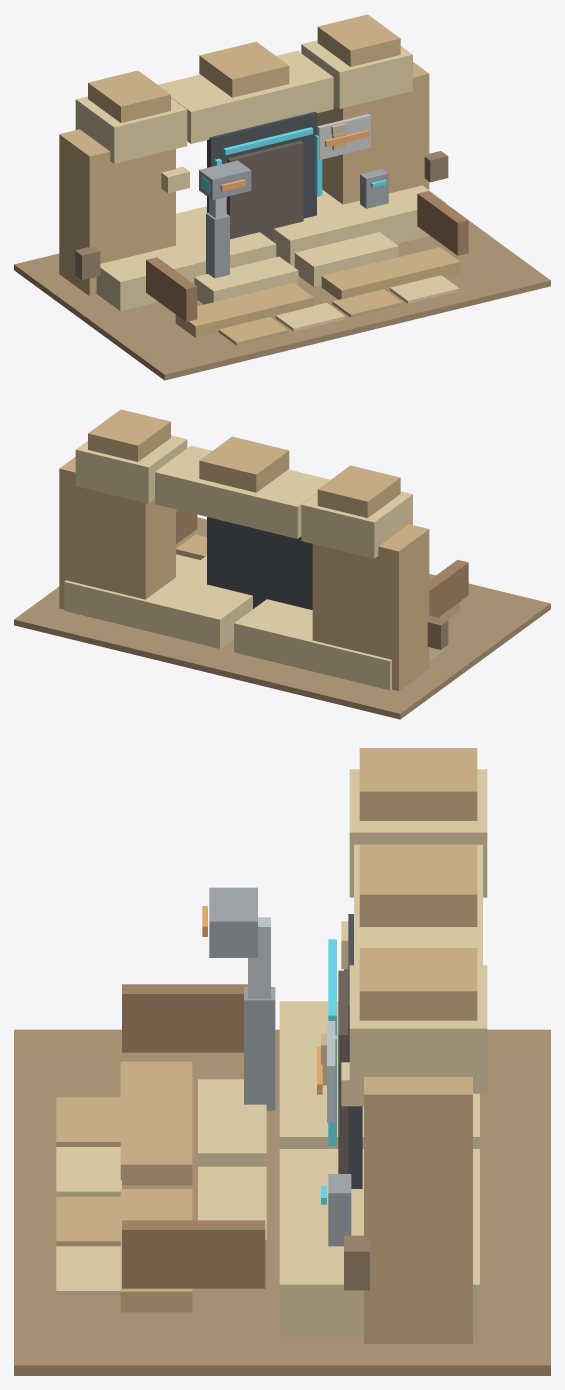
Rendered from blockbench_cantina_entrance_v1.glb.
The picture shows the model from 3 angles, top to bottom: view 1: azimuth 30°, elevation 25°; view 2: azimuth 150°, elevation 25°; view 3: azimuth 270°, elevation 25°; orthographic projection. The views are drawn at different scales.
Visible parts, largest first — view 1: dust_base, left_wall_core, right_wall_core, lintel_center, platform_left, platform_right, inner_door, lintel_left_cap, lintel_right_cap, step_low_right, top_block_mid, step_low_left (+19 smaller); view 2: dust_base, left_wall_core, right_wall_core, platform_right, lintel_center, recess_shadow, platform_left, lintel_left_cap, lintel_right_cap, top_block_mid, top_block_left, top_block_right (+4 smaller); view 3: dust_base, right_wall_core, platform_right, right_side_rail, top_block_mid, lintel_right_cap, step_low_left, top_block_left, top_block_right, left_side_rail, platform_left, step_mid_left (+17 smaller).
Part boxes in pixels (x1,y1,x2,y2): dust_base: (14,220,550,380); left_wall_core: (59,129,175,296); right_wall_core: (317,62,429,204); lintel_center: (158,50,333,143); platform_left: (96,206,276,311); platform_right: (273,185,446,267); inner_door: (227,140,303,241); lintel_left_cap: (75,96,187,163); lintel_right_cap: (301,40,412,108); step_low_right: (321,247,459,299); top_block_mid: (199,41,289,97); step_low_left: (175,283,313,337); dust_base: (14,517,550,719); left_wall_core: (312,524,429,691); right_wall_core: (59,457,175,609); platform_right: (64,554,252,648); lintel_center: (155,445,330,538); recess_shadow: (207,517,312,609); platform_left: (234,599,446,690); lintel_left_cap: (301,491,412,558); lintel_right_cap: (75,435,187,503); top_block_mid: (199,436,289,492); top_block_left: (317,465,400,517); top_block_right: (88,409,170,461); dust_base: (14,1029,550,1375); right_wall_core: (364,1077,472,1343); platform_right: (279,1149,479,1336); right_side_rail: (122,1220,265,1288); top_block_mid: (359,845,477,926); lintel_right_cap: (349,965,487,1093); step_low_left: (120,1061,192,1185); top_block_left: (359,748,477,820); top_block_right: (359,948,477,1020); left_side_rail: (122,984,247,1052); platform_left: (279,1001,479,1148); step_mid_left: (198,1079,266,1166).
Bounding box in the file's own units: 5.55 × 2.61 × 3.75.
